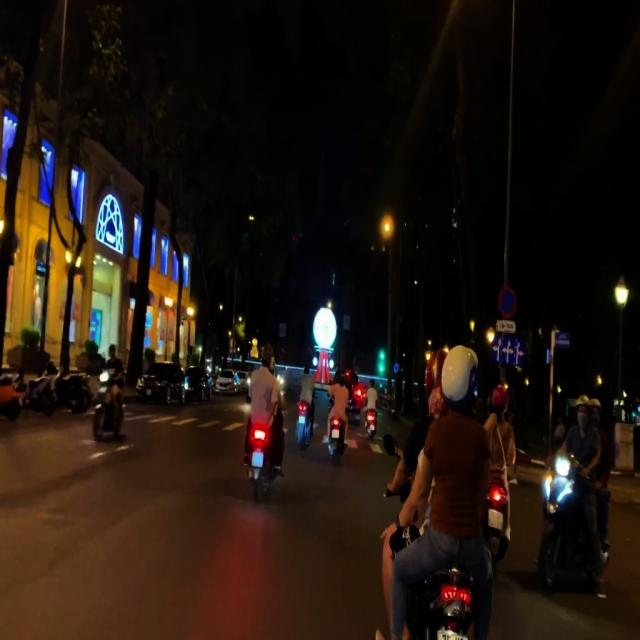cam_do_xe: (497, 286, 516, 318)
huong_di_tren_moi_lan_duong_theo_vach_ke_duong: (492, 336, 525, 368)
khac: (496, 320, 516, 333)
noi_giao_nhau_chay_theo_vong: (394, 363, 400, 374)
